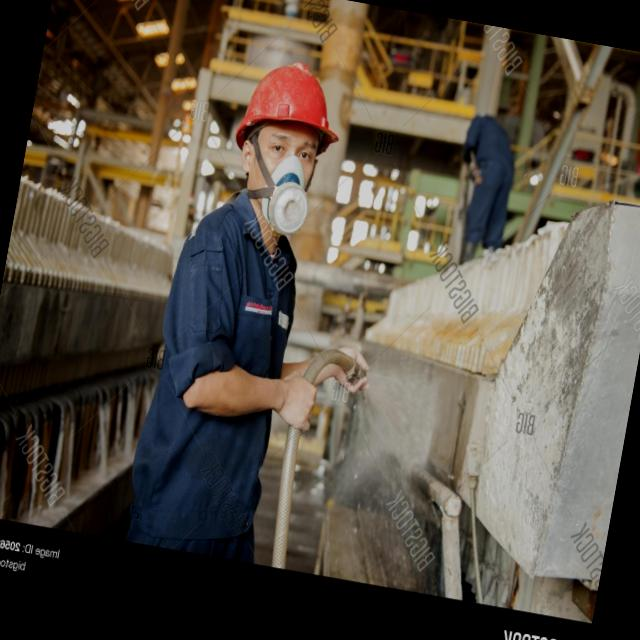helmet: (232, 49, 354, 154)
no-goggles: (240, 120, 329, 178)
no-vest: (136, 208, 304, 523)
